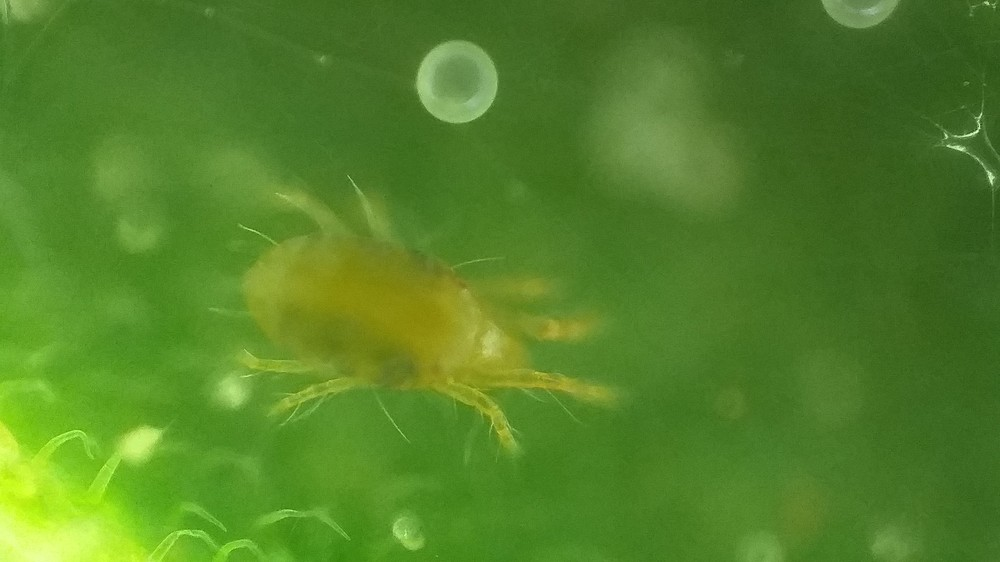Aracnido Rojo: (195, 187, 667, 503)
